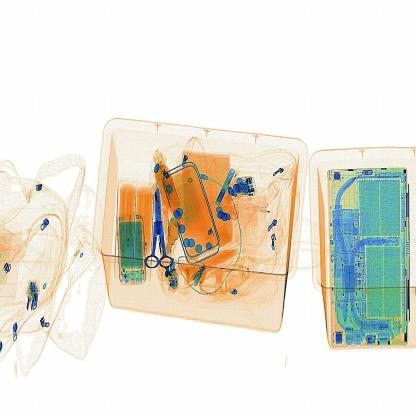gun: (143, 182, 177, 276)
